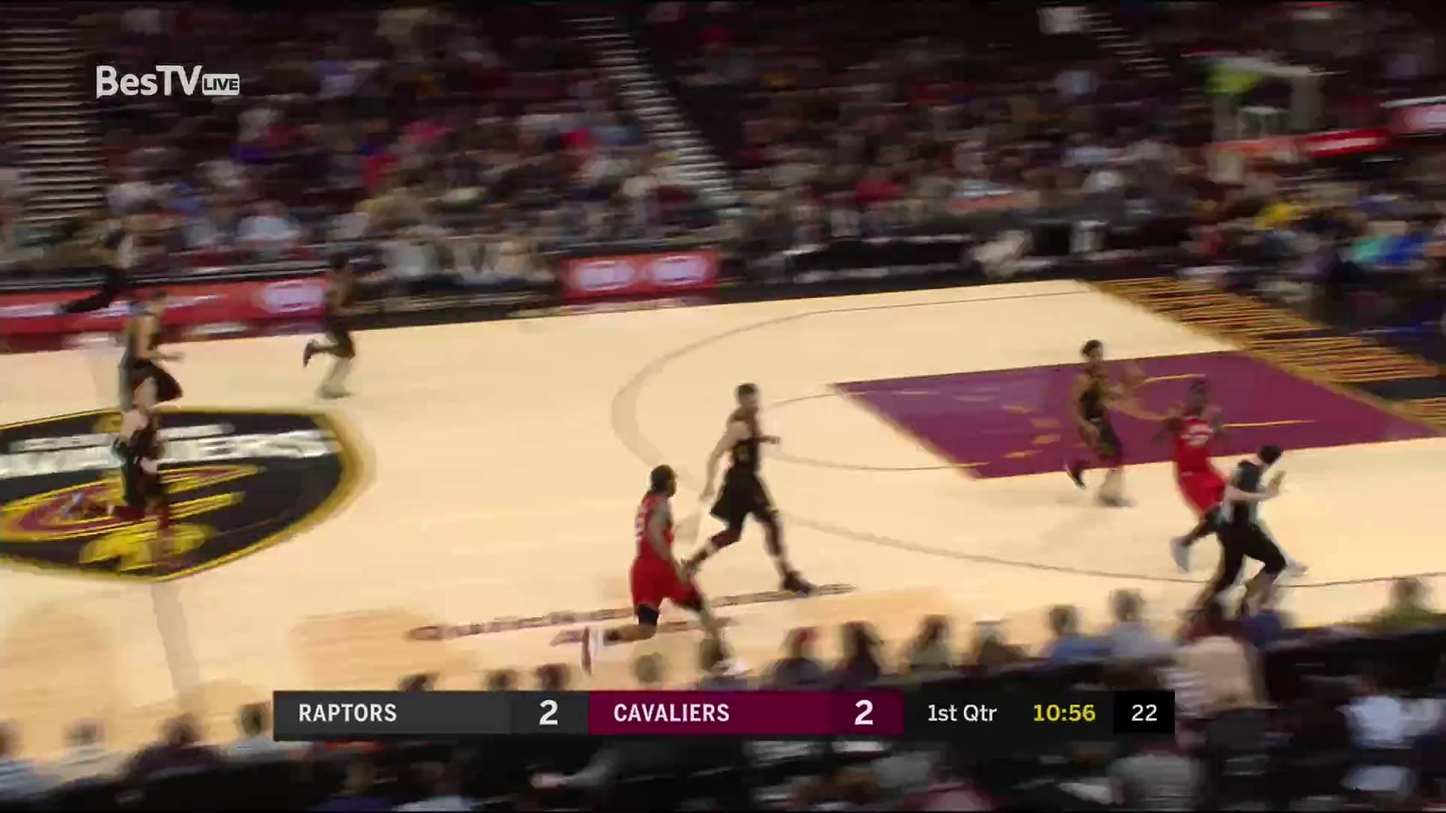basketball: (1121, 364, 1147, 386)
